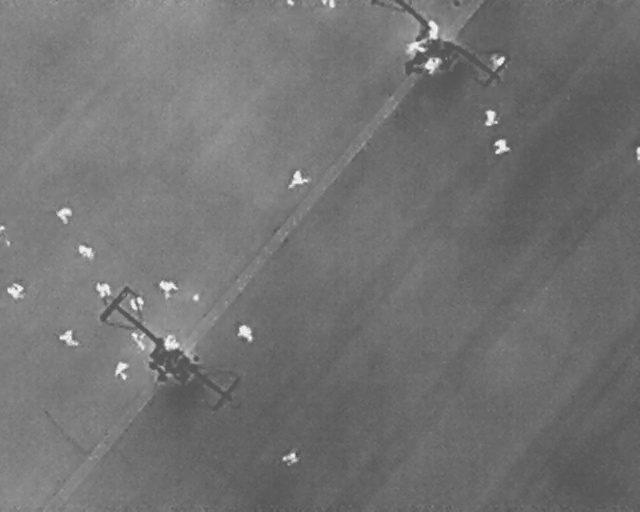Person: (404, 34, 431, 58), (422, 52, 444, 76), (287, 169, 310, 188), (57, 328, 79, 346), (278, 449, 300, 467), (158, 279, 175, 298), (6, 282, 25, 299), (482, 108, 499, 126), (163, 334, 179, 353), (113, 361, 129, 380), (78, 242, 94, 260), (238, 323, 253, 341), (495, 138, 511, 154), (55, 208, 71, 224), (428, 18, 439, 41), (130, 333, 146, 348), (95, 283, 110, 298), (493, 53, 507, 68), (130, 298, 146, 310)
